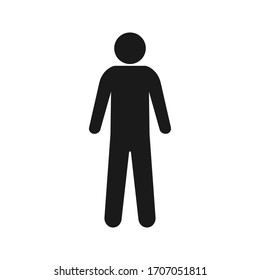person: (89, 31, 173, 228)
